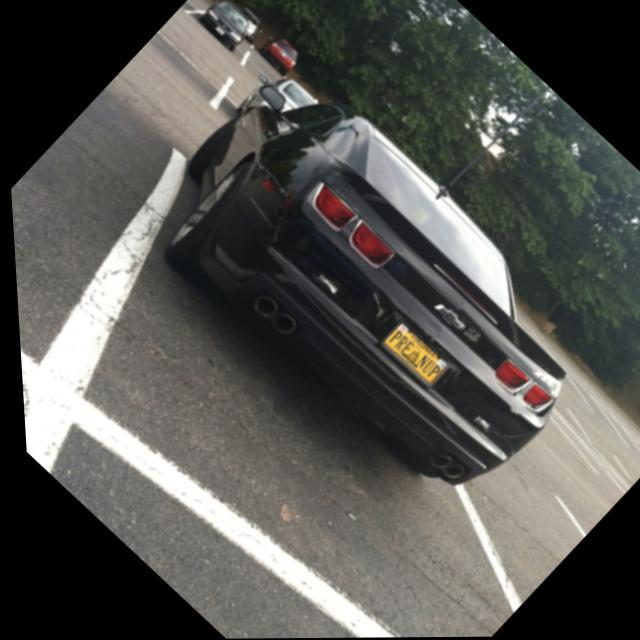license_plate: (376, 321, 444, 386)
